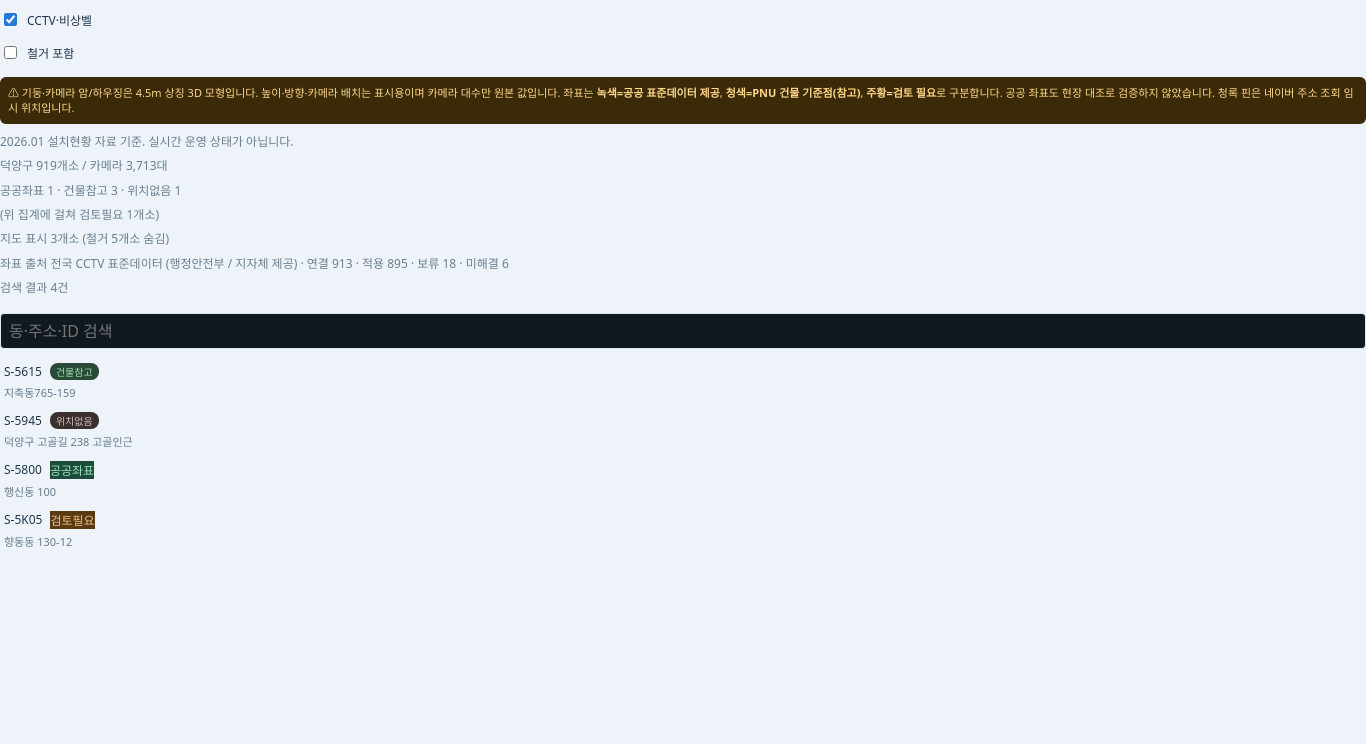
Scenario: FacilitiesPanel › shows Korean match reasons and display-only camera placement copy
Expected: the message shows "높이·방향·카메라 배치는 표시용", [8, 85, 596, 100]
Expected: the message shows "카메라 대수만 원본 값", [8, 85, 596, 100]
Step 1. Click the button "S-5945 위치없음 덕양구 고골길 238 고골인근" → (23, 420), box [0, 406, 1365, 454]
(page scrolled)
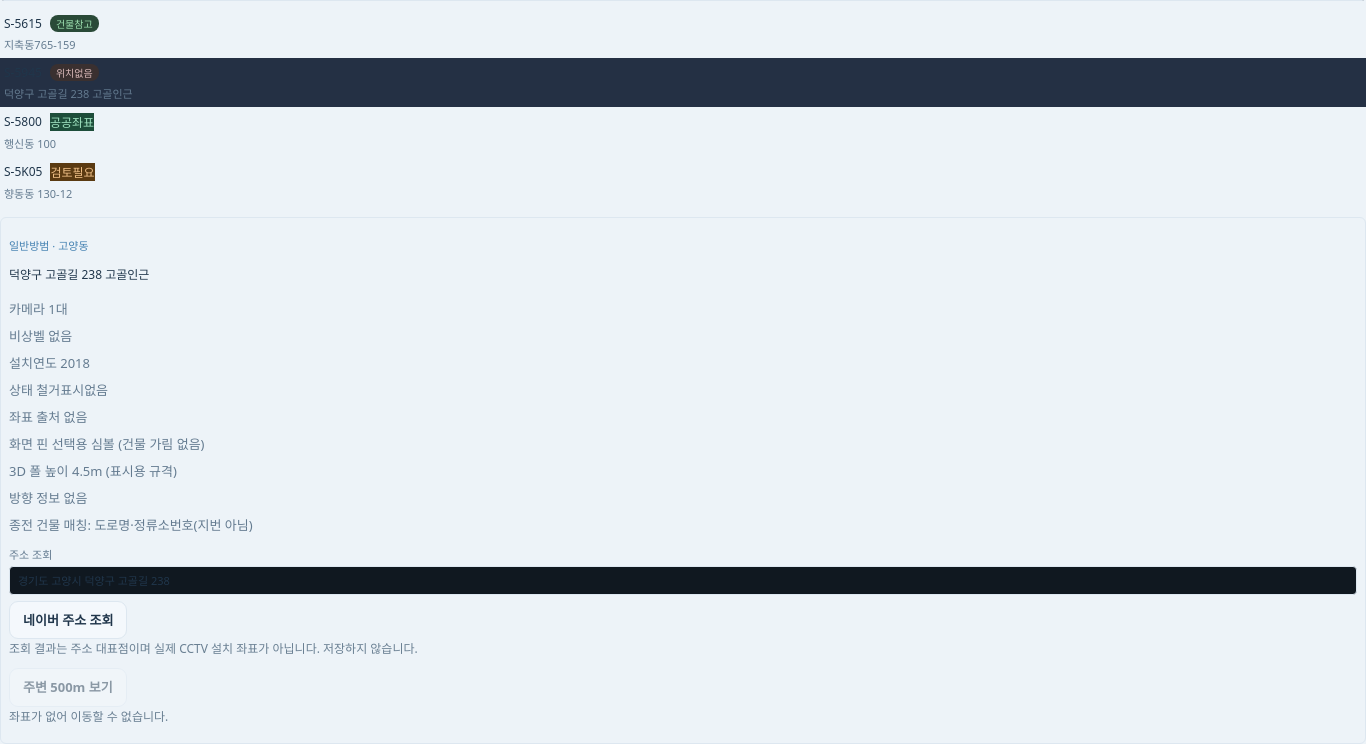
Expected: the element with test id "cctv-detail" shows "도로명·정류소번호(지번 아님)", [94, 516, 253, 534]
Expected: the element with test id "cctv-detail" shows "좌표 출처 없음"
